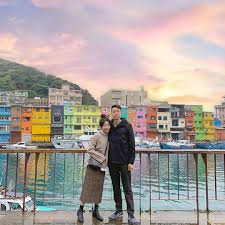people: (107, 103, 141, 224), (85, 117, 110, 220)
